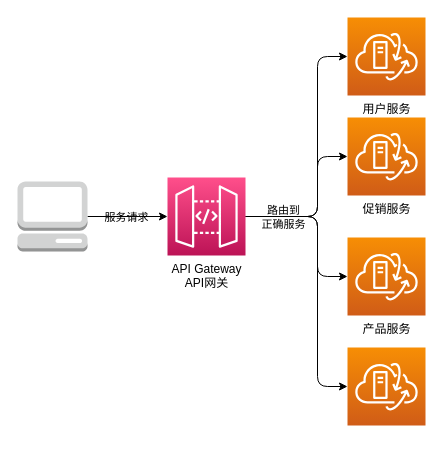
Image size: 443x464. Some labels were removed from this diagram. Each missing label, with the centre of its shape:
"支付服务" belongs at (x=386, y=386).
"用户" belongs at (x=52, y=216).
